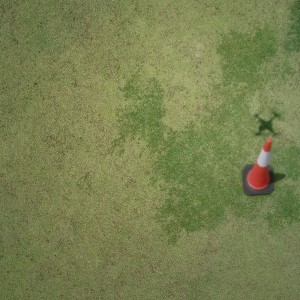traffic cone: (242, 138, 275, 196)
